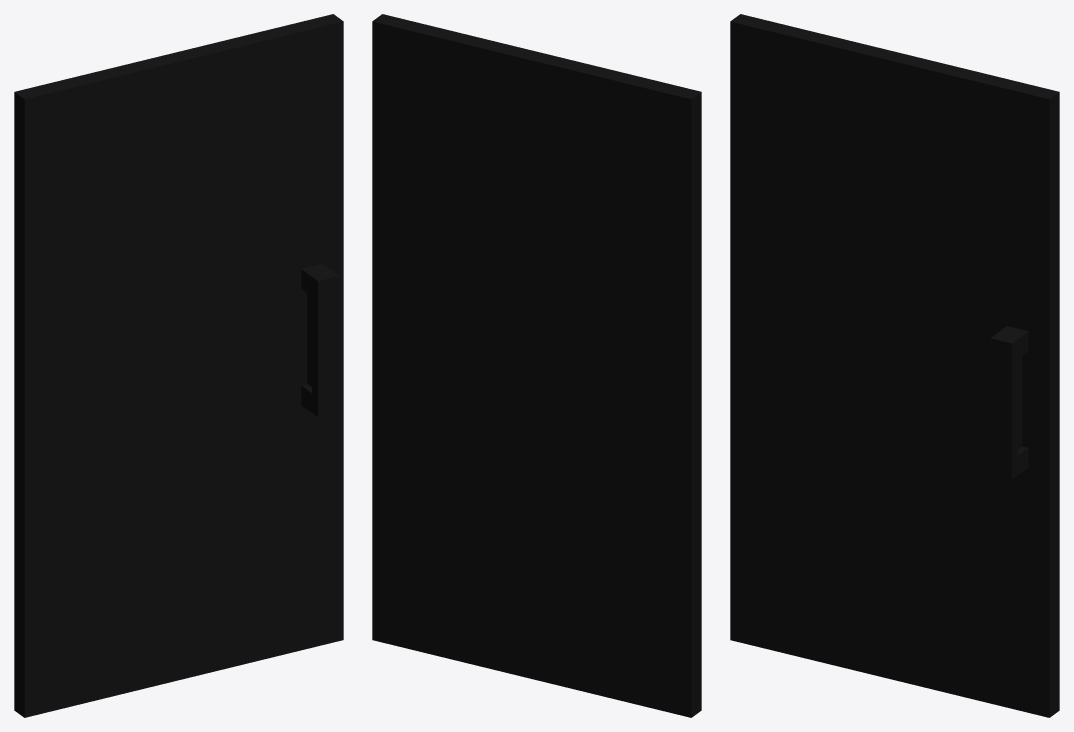
The model's file is Itr_Shelf1_Door_Left_03.FBX.
3 renders of one model, left to right at view 1: azimuth 30°, elevation 25°; view 2: azimuth 150°, elevation 25°; view 3: azimuth 330°, elevation 25°, orthographic.
Parts seen in each view (by area): view 1: Itr_Shelf1_Door_Left_03; view 2: Itr_Shelf1_Door_Left_03; view 3: Itr_Shelf1_Door_Left_03.
Boxes of the visible parts, x1,y1,x2,y2 form: Itr_Shelf1_Door_Left_03: [14, 14, 343, 717]; Itr_Shelf1_Door_Left_03: [372, 14, 701, 717]; Itr_Shelf1_Door_Left_03: [730, 14, 1059, 717].
Bounding box in the file's own units: 22.1 × 40.92 × 3.23.
